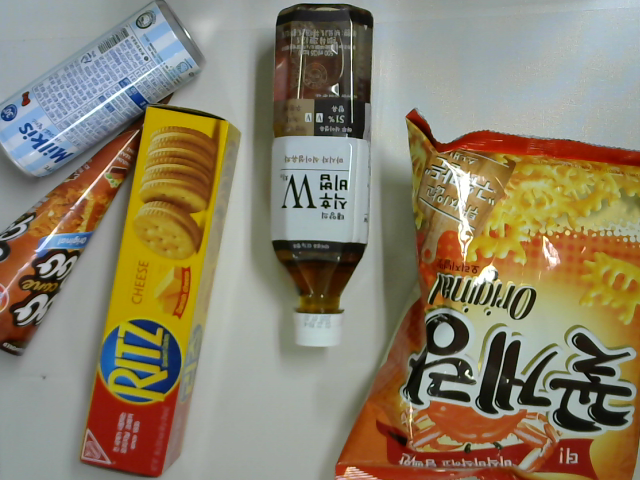Crabrang: (332, 107, 640, 480)
GooGoo_Cone_CVS: (1, 89, 174, 355)
Milkies_250ml: (1, 1, 214, 178)
Post-meal_recipe_W_tea_500ml: (263, 1, 375, 349)
Ritz_Sand_Cracker: (68, 102, 241, 475)
